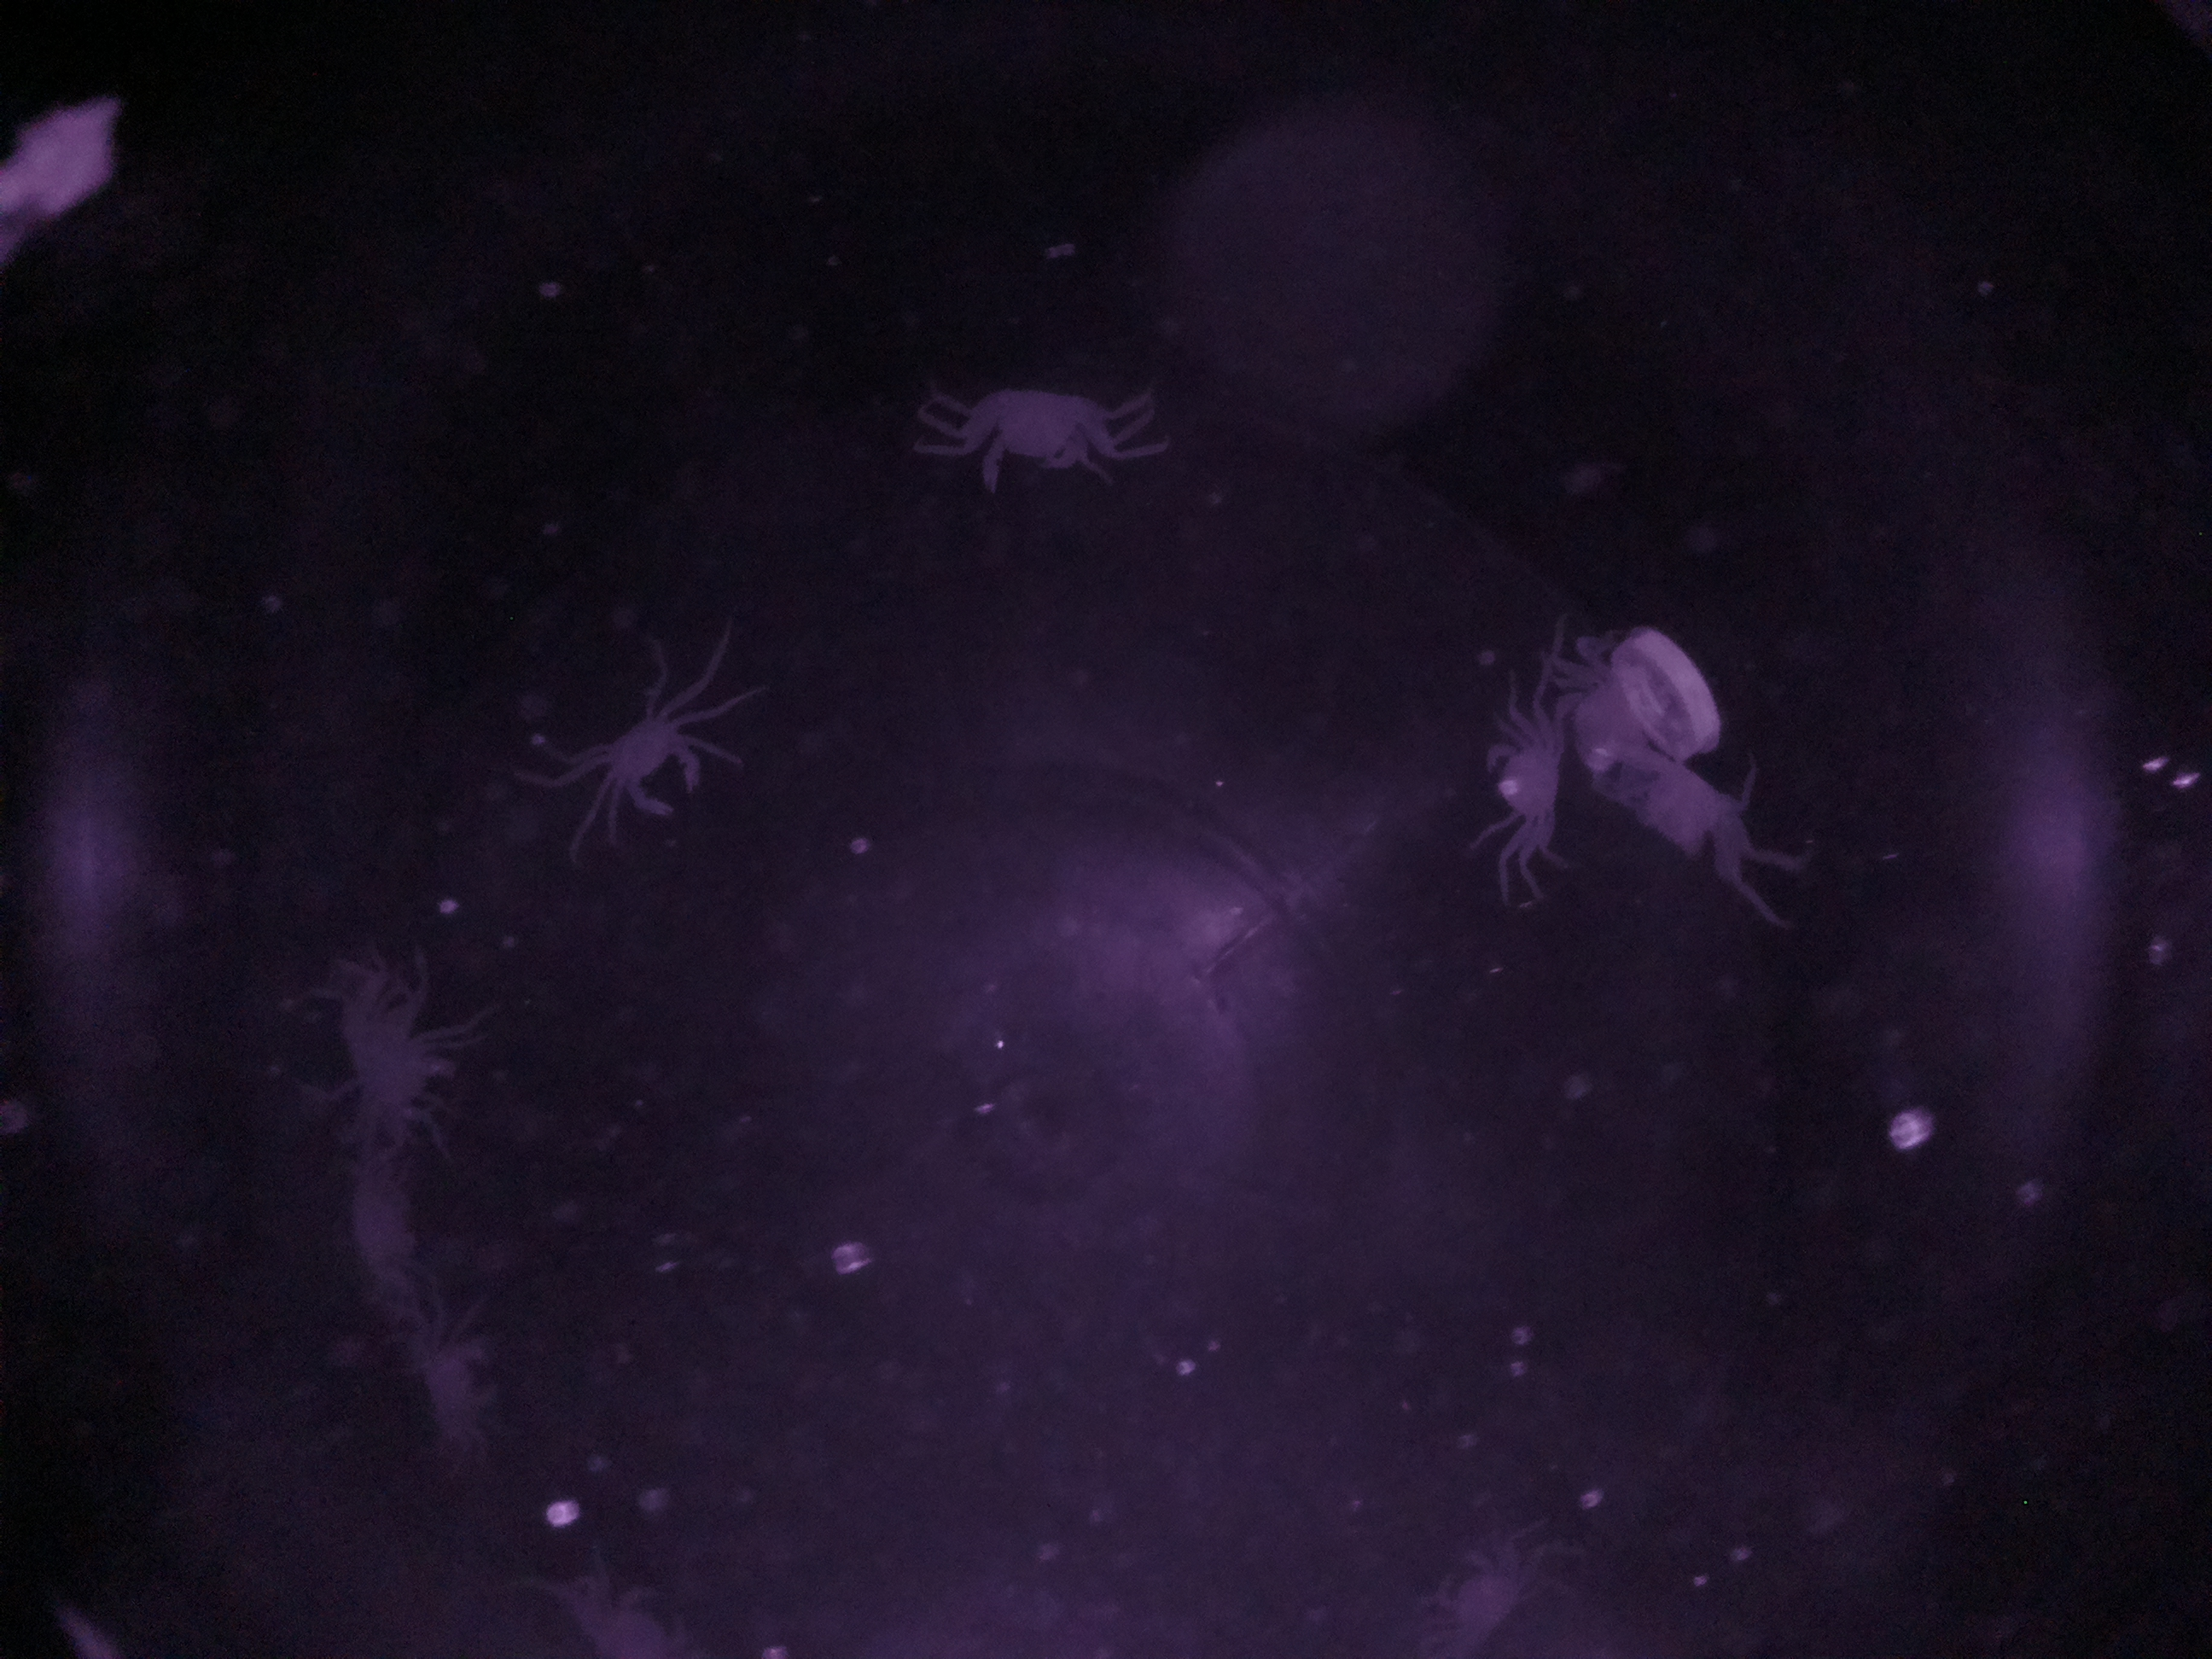Crab: (550, 676, 747, 859), (948, 345, 1129, 514), (1458, 680, 1590, 866)
